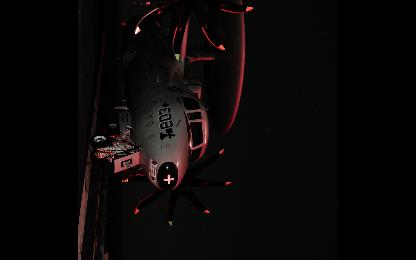C5: (90, 0, 254, 226)
